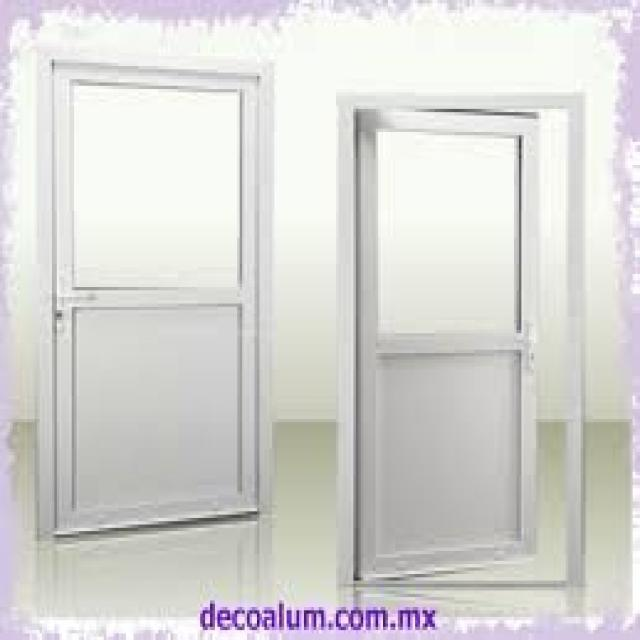door: (44, 53, 264, 538)
